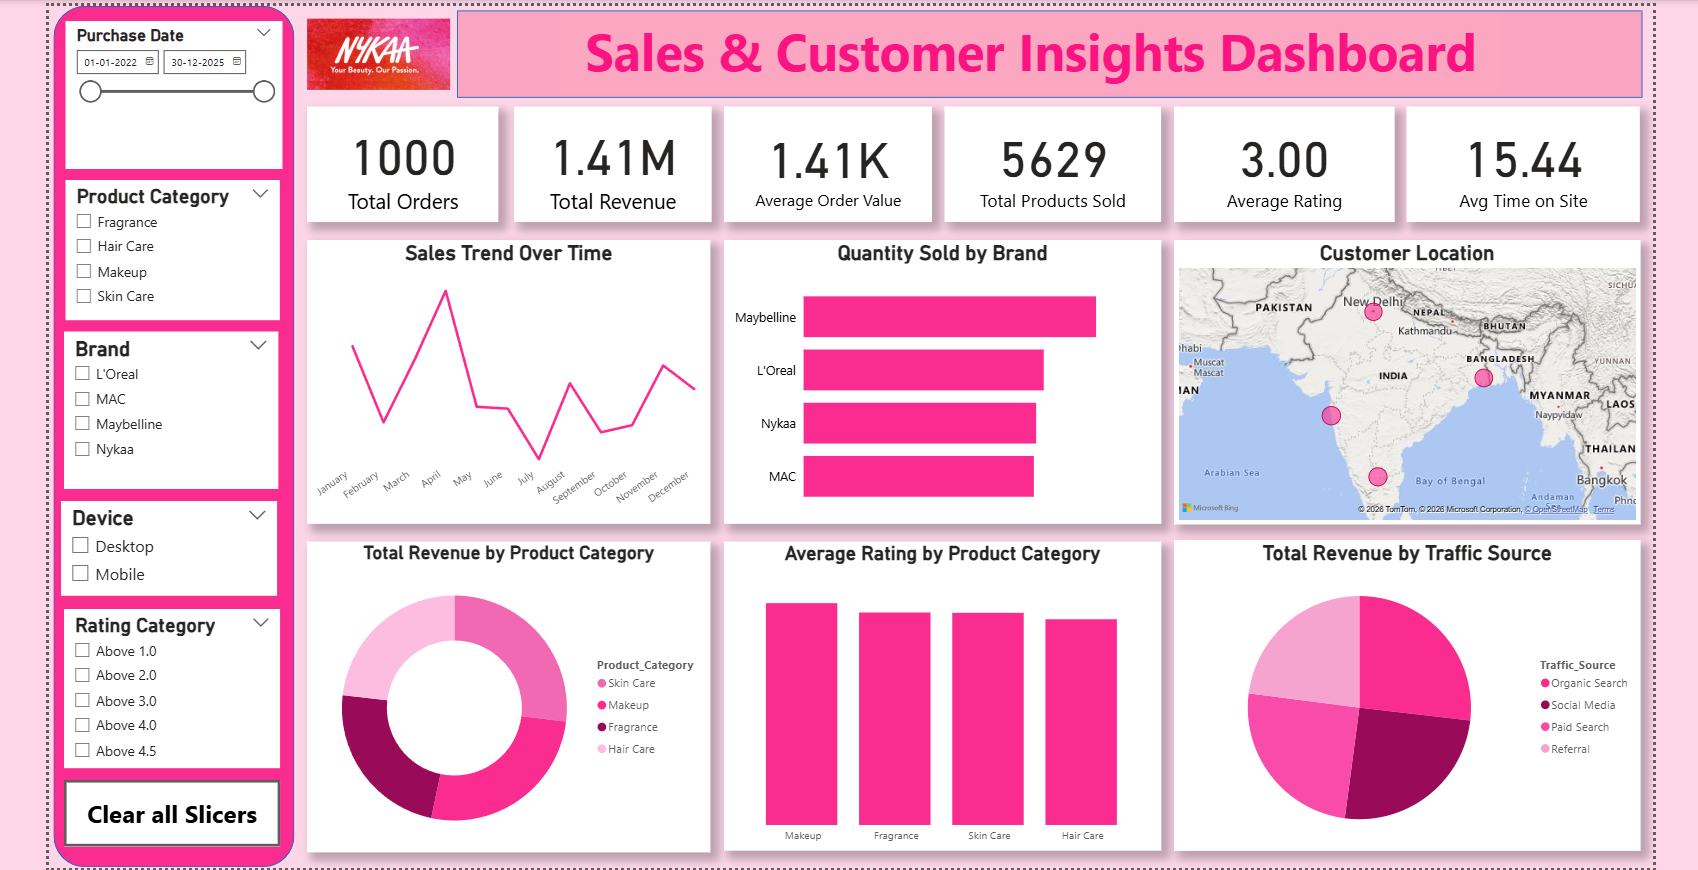

The dashboard page shown, as its layout file describes it:
{"tool":"powerbi","page":{"name":"Dashboard","canvas":[1860,1000],"ordinal":0},"visuals":[{"type":"shape","box":[4.4,0,279.4,998.9],"z":0},{"type":"image","box":[294.8,0,176,112.2],"z":1000},{"type":"shape","box":[473.1,4.4,1375.2,101.2],"z":2000},{"type":"card","fields":{"Values":["Sheet1.Total Orders"]},"box":[299.2,116.6,222.2,134.2],"z":3000},{"type":"card","fields":{"Values":["Sheet1.Total Revenue"]},"box":[539,117.1,229.3,134.1],"z":4000},{"type":"card","fields":{"Values":["Sheet1.Average Order Value"]},"box":[782.9,117.1,241.5,134.1],"z":5000},{"type":"card","fields":{"Values":["Sheet1.Total Products Sold"]},"box":[1039,117.1,251.2,134.1],"z":6000},{"type":"card","fields":{"Values":["Sheet1.Average Rating"]},"box":[1304.9,117.1,256.1,134.1],"z":7000},{"type":"card","fields":{"Values":["Sheet1.Avg Time on Site SEC"]},"box":[1575.6,117.1,270.7,134.1],"z":8000},{"type":"lineChart","title":"Sales Trend Over Time","fields":{"Category":["Sheet1.Purchase_Date.Variation.Date Hierarchy.Month"],"Y":["Sheet1.Total Revenue"]},"box":[300,270.7,468.3,329.3],"z":9000},{"type":"donutChart","title":"Total Revenue by Product Category","fields":{"Category":["Sheet1.Product_Category"],"Y":["Sheet1.Total Revenue"]},"box":[300,622,468.3,361],"z":10000},{"type":"barChart","title":"Quantity Sold by Brand","fields":{"Category":["Sheet1.Brand"],"Y":["Sum(Sheet1.Quantity_Sold)"]},"box":[782.9,270.7,507.3,329.3],"z":11000},{"type":"columnChart","title":"Average Rating by Product Category","fields":{"Category":["Sheet1.Product_Category"],"Y":["Sheet1.Average Rating"]},"box":[782.9,622,507.3,358.5],"z":12000},{"type":"map","title":"Customer Location","fields":{"Category":["Sheet1.Customer_Location"],"Size":["Sheet1.Total Orders"]},"box":[1304.8,270.6,541.3,330],"z":13000},{"type":"pieChart","title":"Total Revenue by Traffic Source","fields":{"Category":["Sheet1.Traffic_Source"],"Y":["Sheet1.Total Revenue"]},"box":[1304.9,619.5,541.5,361],"z":14000},{"type":"slicer","fields":{"Values":["Sheet1.Product_Category"]},"box":[19.8,202.4,248.6,162.8],"z":15000},{"type":"slicer","fields":{"Values":["Sheet1.Brand"]},"box":[17.6,378.5,248.6,182.6],"z":16000},{"type":"slicer","fields":{"Values":["Sheet1.Purchase_Date"]},"box":[19.8,17.6,250.8,171.6],"z":17000},{"type":"slicer","fields":{"Values":["Sheet1.Device"]},"box":[13.2,574.3,250.8,110],"z":18000},{"type":"textbox","box":[594.1,6.6,1091.4,92.4],"z":19000},{"type":"slicer","fields":{"Values":["Sheet1.Rating Category"]},"box":[17.6,699.7,250.8,184.8],"z":20000},{"type":"actionButton","box":[17.6,897.7,250.8,77],"z":21000}]}

Visuals, with their boxes in screenshot pixels (x1, y1, x2, y2):
shape: (48,4,288,863)
image: (297,4,449,101)
shape: (451,8,1632,95)
card - Sheet1.Total Orders: (301,105,492,220)
card - Sheet1.Total Revenue: (507,105,704,220)
card - Sheet1.Average Order Value: (717,105,924,220)
card - Sheet1.Total Products Sold: (937,105,1153,220)
card - Sheet1.Average Rating: (1165,105,1385,220)
card - Sheet1.Avg Time on Site SEC: (1398,105,1630,220)
"Sales Trend Over Time" lineChart: (302,237,704,520)
"Total Revenue by Product Category" donutChart: (302,539,704,849)
"Quantity Sold by Brand" barChart: (717,237,1153,520)
"Average Rating by Product Category" columnChart: (717,539,1153,847)
"Customer Location" map: (1165,237,1630,520)
"Total Revenue by Traffic Source" pieChart: (1165,537,1630,847)
slicer - Sheet1.Product_Category: (61,178,275,318)
slicer - Sheet1.Brand: (59,330,273,486)
slicer - Sheet1.Purchase_Date: (61,20,277,167)
slicer - Sheet1.Device: (56,498,271,592)
textbox: (555,10,1492,89)
slicer - Sheet1.Rating Category: (59,606,275,764)
actionButton: (59,776,275,842)
